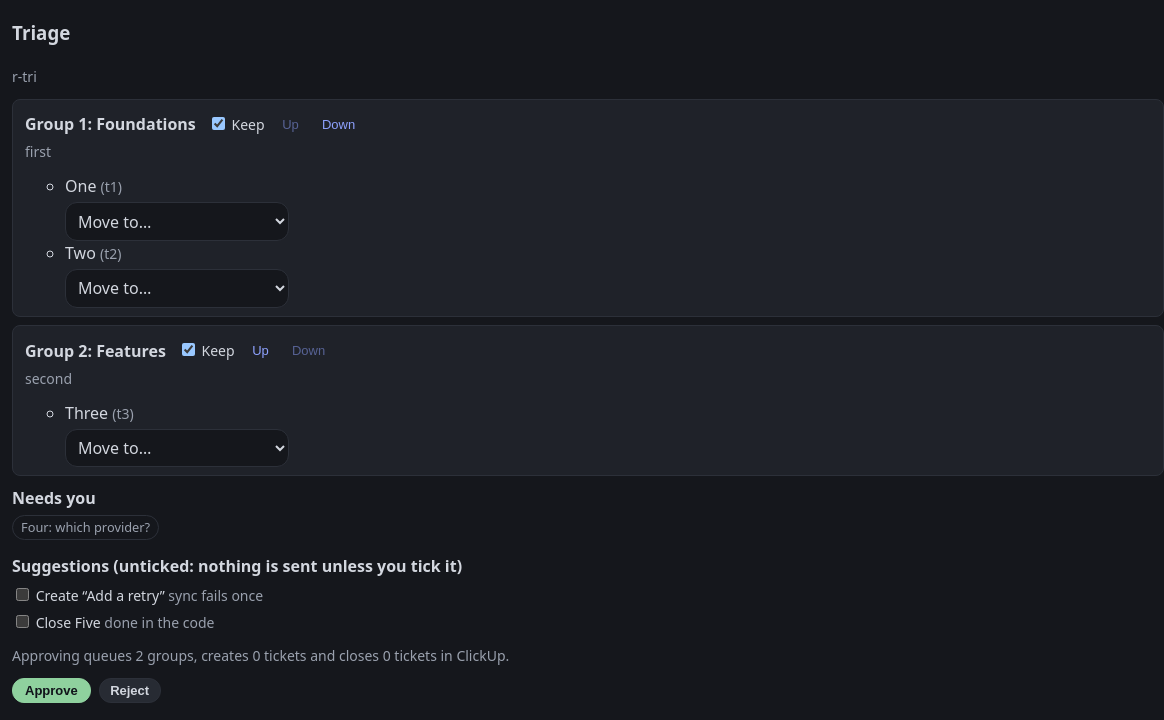
TriageSection › refuses an edit that points a dependency forward, with the reason inline, and disables Approve
Expected: the list item with test id "triage-group-1" is shown, [12,98,1163,317]
Step 1. Click the button with aria-label "Move Foundations down" → (339, 124), box [316,117,361,132]
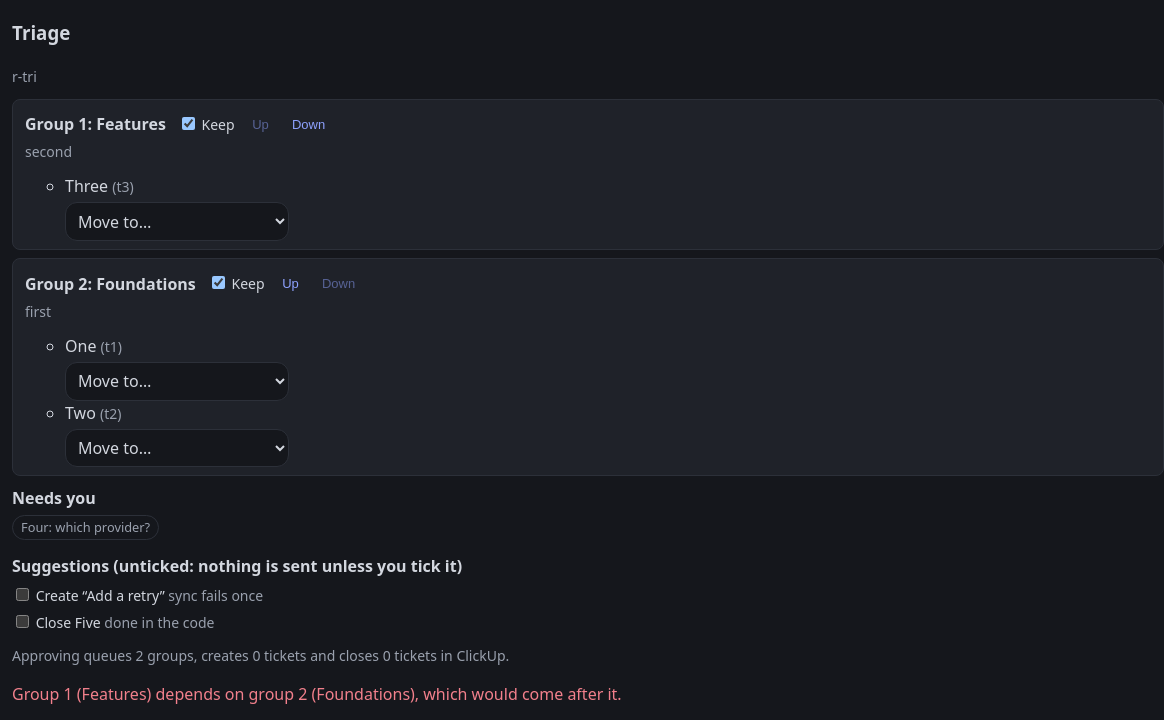
Now the message with test id "triage-refusal" shows "depends on group", box [12,683,622,705]
Step 2. Click the button with aria-label "Move Foundations up" → (290, 284), box [276,276,304,292]
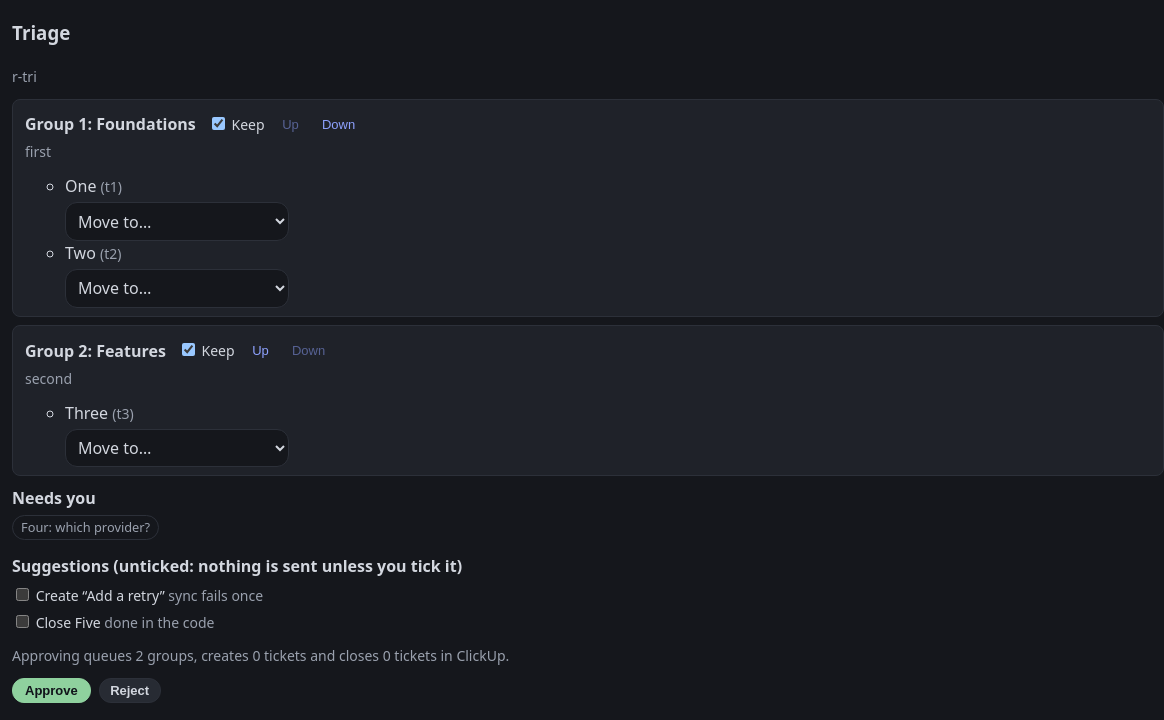
Now the message with test id "triage-refusal" is gone
